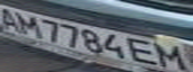4: (103, 32, 130, 62)
7: (57, 21, 84, 50), (36, 16, 63, 44)
8: (78, 26, 106, 55)
A: (0, 6, 24, 34)
E: (127, 36, 163, 69)
M: (151, 39, 193, 71), (12, 10, 45, 38)
